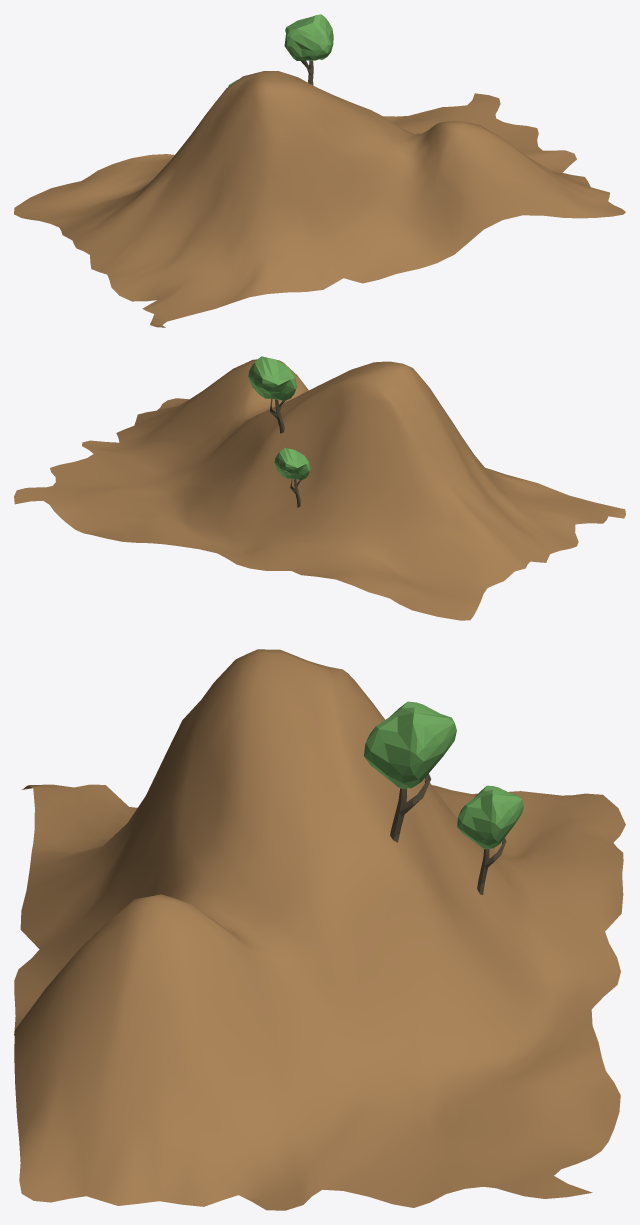
File: background2.fbx
3 renders of one model, top to bottom at view 1: azimuth 30°, elevation 25°; view 2: azimuth 150°, elevation 25°; view 3: azimuth 270°, elevation 25°, orthographic. The views are drawn at different scales.
Parts seen in each view (by area): view 1: polySurface5; view 2: polySurface5; view 3: polySurface5.
Boxes of the visible parts, x1,y1,x2,y2 form: polySurface5: (14,14,625,327); polySurface5: (14,356,625,620); polySurface5: (14,649,625,1210).
Bounding box in the file's own units: 692 × 238 × 412.
